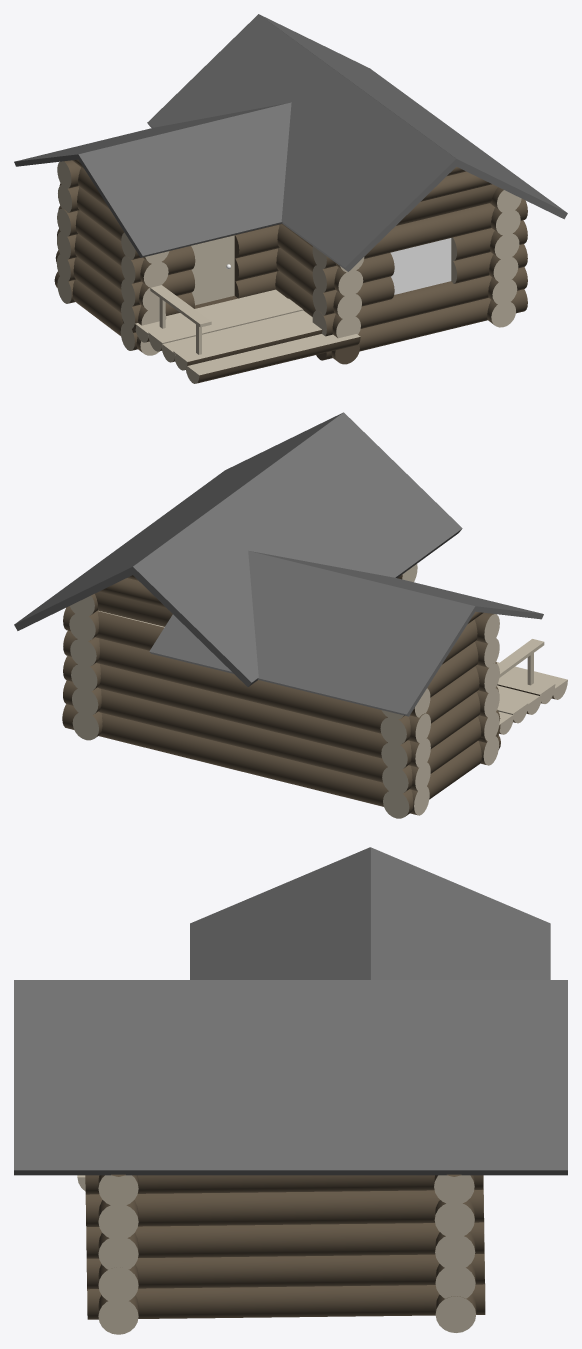
File: cabin.fbx
The picture shows the model from 3 angles, top to bottom: view 1: azimuth 30°, elevation 25°; view 2: azimuth 150°, elevation 25°; view 3: azimuth 270°, elevation 25°; orthographic projection. The views are drawn at different scales.
Visible parts, largest first — view 1: pCube7, pCube9, pCube8, pCylinder67, pCylinder65, pCylinder10, pCylinder27, pCylinder26, pCube5, pCube4, pCylinder28, pCube10 (+31 smaller); view 2: pCube7, pCube10, pCylinder12, pCylinder18, pCylinder11, pCylinder13, pCube8, pCube9, pCylinder14, pCylinder55, pCylinder19, pCylinder66 (+19 smaller); view 3: pCube8, pCube9, pCube10, pCylinder57, pCylinder56, pCylinder63, pCylinder17, pCylinder68, pCylinder18, pCylinder10, pCylinder33, pCylinder67 (+6 smaller).
Part boxes in pixels (box(x1,y1,x2,y2)): pCube7: box(147, 14, 458, 271); pCube9: box(77, 102, 291, 257); pCube8: box(259, 14, 567, 219); pCylinder67: box(312, 267, 527, 336); pCylinder65: box(312, 199, 527, 269); pCylinder10: box(316, 289, 527, 360); pCylinder27: box(185, 334, 360, 383); pCylinder26: box(173, 318, 322, 370); pCube5: box(390, 238, 451, 294); pCube4: box(191, 235, 234, 305); pCylinder28: box(148, 298, 303, 351); pCube10: box(14, 102, 289, 166); pCube7: box(129, 412, 462, 686); pCube10: box(149, 551, 475, 716); pCylinder12: box(63, 656, 430, 767); pCylinder18: box(62, 704, 429, 815); pCylinder11: box(63, 680, 430, 791); pCylinder13: box(63, 630, 430, 742); pCube8: box(14, 412, 343, 630); pCube9: box(250, 551, 543, 619); pCylinder14: box(63, 606, 430, 717); pCylinder55: box(380, 662, 497, 745); pCylinder19: box(383, 735, 500, 818); pCylinder66: box(382, 709, 500, 793); pCube8: box(14, 980, 567, 1175); pCube9: box(190, 847, 370, 979); pCube10: box(370, 847, 550, 979); pCylinder57: box(85, 1189, 483, 1226); pCylinder56: box(86, 1218, 484, 1258); pCylinder63: box(86, 1245, 484, 1289); pCylinder17: box(87, 1283, 485, 1319); pCylinder68: box(85, 1175, 483, 1194); pCylinder18: box(435, 1294, 476, 1332); pCylinder10: box(98, 1295, 138, 1334); pCylinder33: box(98, 1200, 138, 1240); pCylinder67: box(98, 1264, 138, 1302).
Size of the model in its own units: 144 by 78 by 136.
